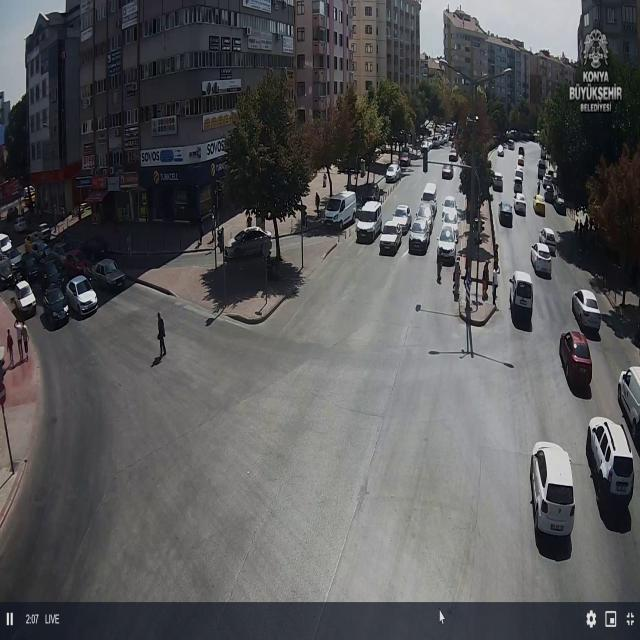Car: (530, 439, 576, 538), (587, 416, 635, 509), (559, 332, 593, 393), (225, 228, 273, 262), (65, 274, 99, 318), (572, 288, 602, 330), (88, 258, 127, 290), (41, 285, 70, 326), (355, 200, 382, 240), (510, 271, 533, 312), (378, 218, 404, 253), (408, 217, 432, 254), (13, 281, 37, 317), (62, 249, 92, 277), (436, 225, 458, 263), (530, 243, 552, 277), (40, 260, 65, 288), (20, 253, 43, 281), (420, 182, 438, 215), (415, 202, 436, 230), (392, 204, 412, 233), (46, 242, 72, 263), (2, 248, 24, 272), (0, 258, 15, 291), (539, 227, 558, 252), (441, 202, 458, 224), (498, 201, 513, 225), (385, 164, 401, 183), (0, 233, 13, 255), (533, 195, 546, 216), (12, 216, 28, 233), (514, 194, 526, 216), (36, 222, 52, 238), (492, 172, 503, 191), (442, 163, 454, 179), (554, 195, 565, 212), (542, 175, 554, 189), (544, 187, 554, 203), (399, 152, 410, 166), (537, 163, 546, 179), (421, 141, 432, 154), (514, 165, 524, 179), (448, 150, 458, 162), (431, 139, 442, 148), (517, 156, 525, 167), (497, 144, 504, 156), (507, 140, 515, 150), (518, 146, 524, 156)
Van: (617, 368, 640, 438), (324, 190, 356, 234)
